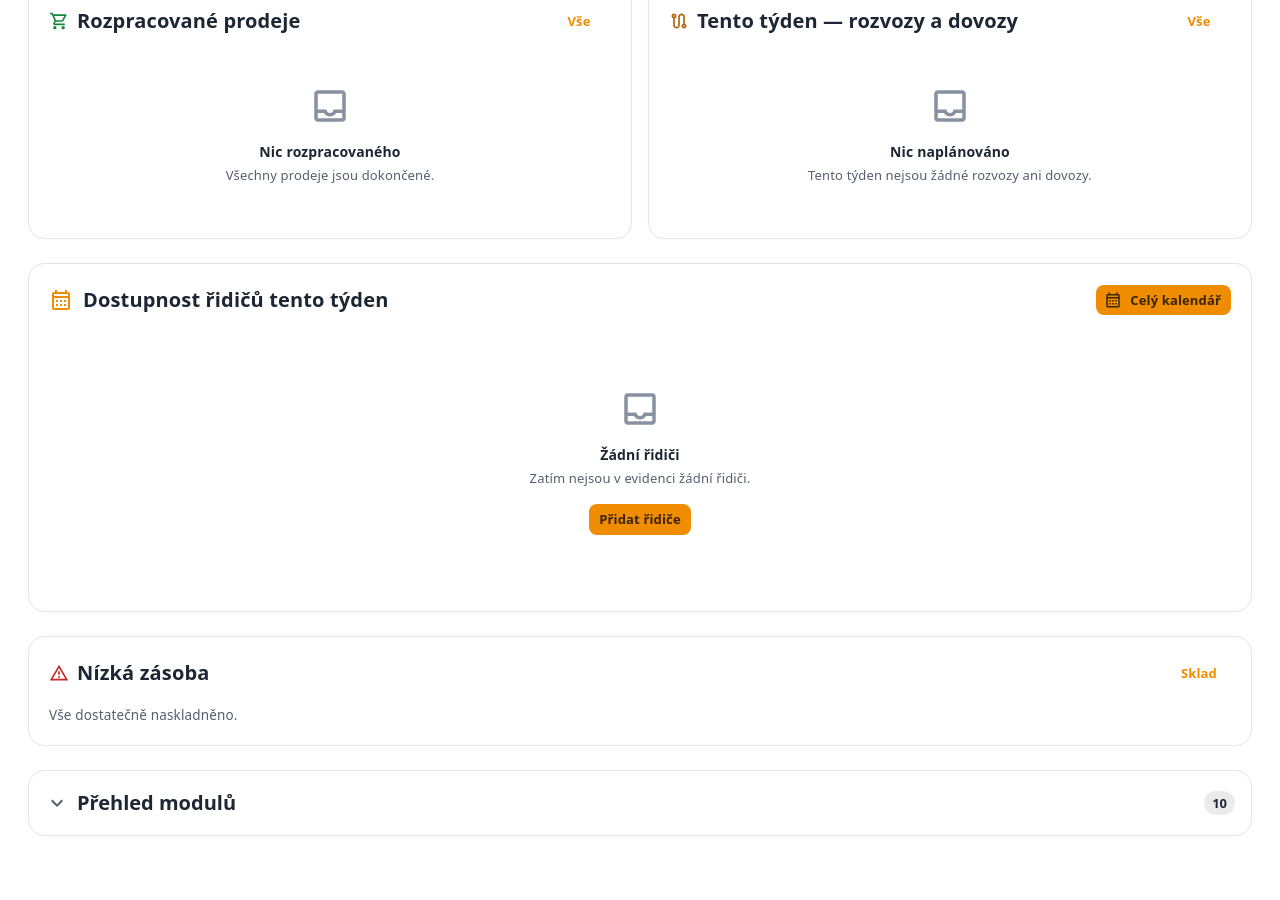
it: DashboardPage module tiles › folds the tiles away behind a toggle on a phone
This screenshot has width=1280, height=900.
(page scrolled)
Check: the text "Uživatelé" is not shown
What coordinates should you click on to do the following:
click the button "Přehled modulů 10"
I would click on:
 (157, 803)
Its box is [29, 771, 1251, 835].
(page scrolled)
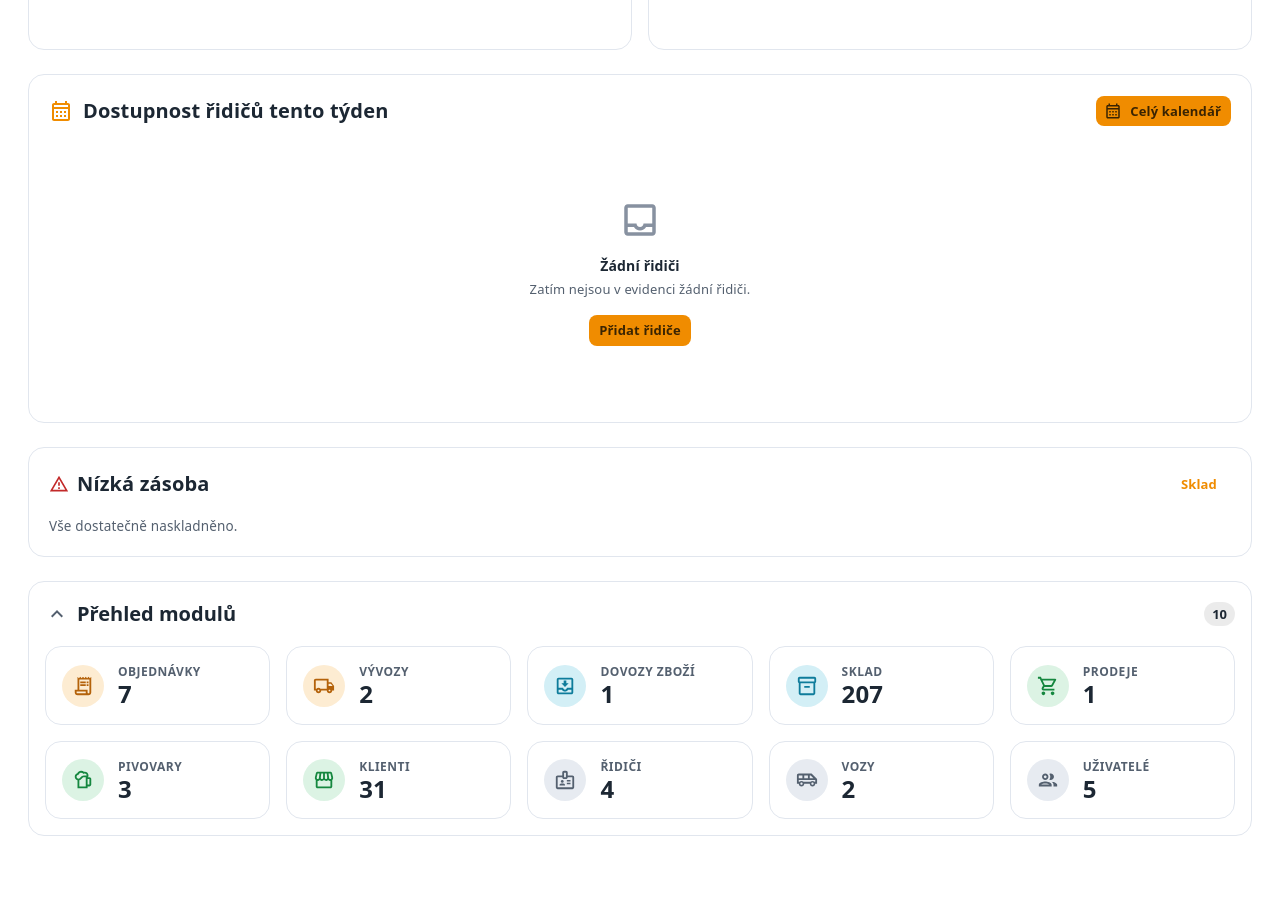
Check: the text "Uživatelé" is shown, box [1083, 758, 1150, 776]
